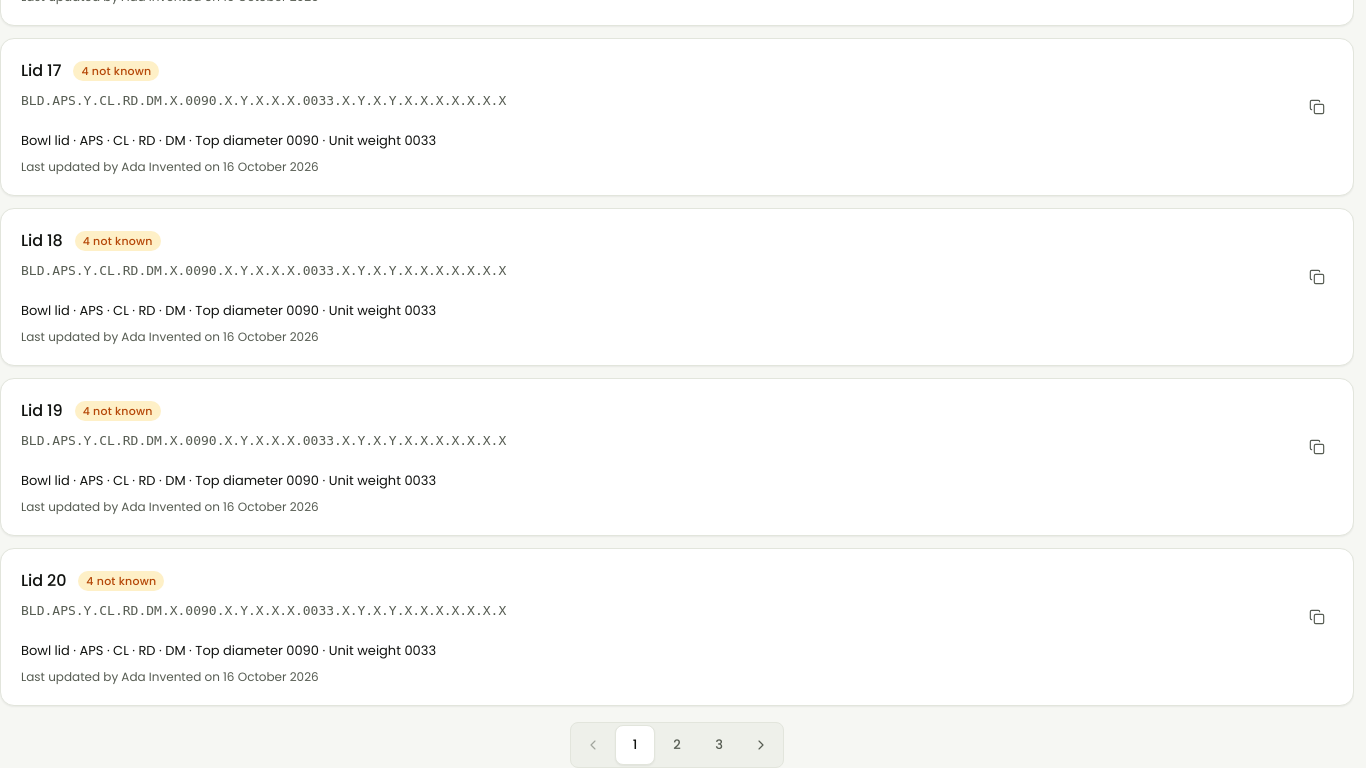
Test case: AtlasLibrary, the list › shows the last page on the first paint, and a jump loads that page in one request
(page scrolled)
Expected: the button named "Previous page" is disabled, left=573, top=725, right=613, bottom=765
Click the button named "Page 3". click: coordinates (719, 745)
box: left=699, top=725, right=739, bottom=765
(page scrolled)
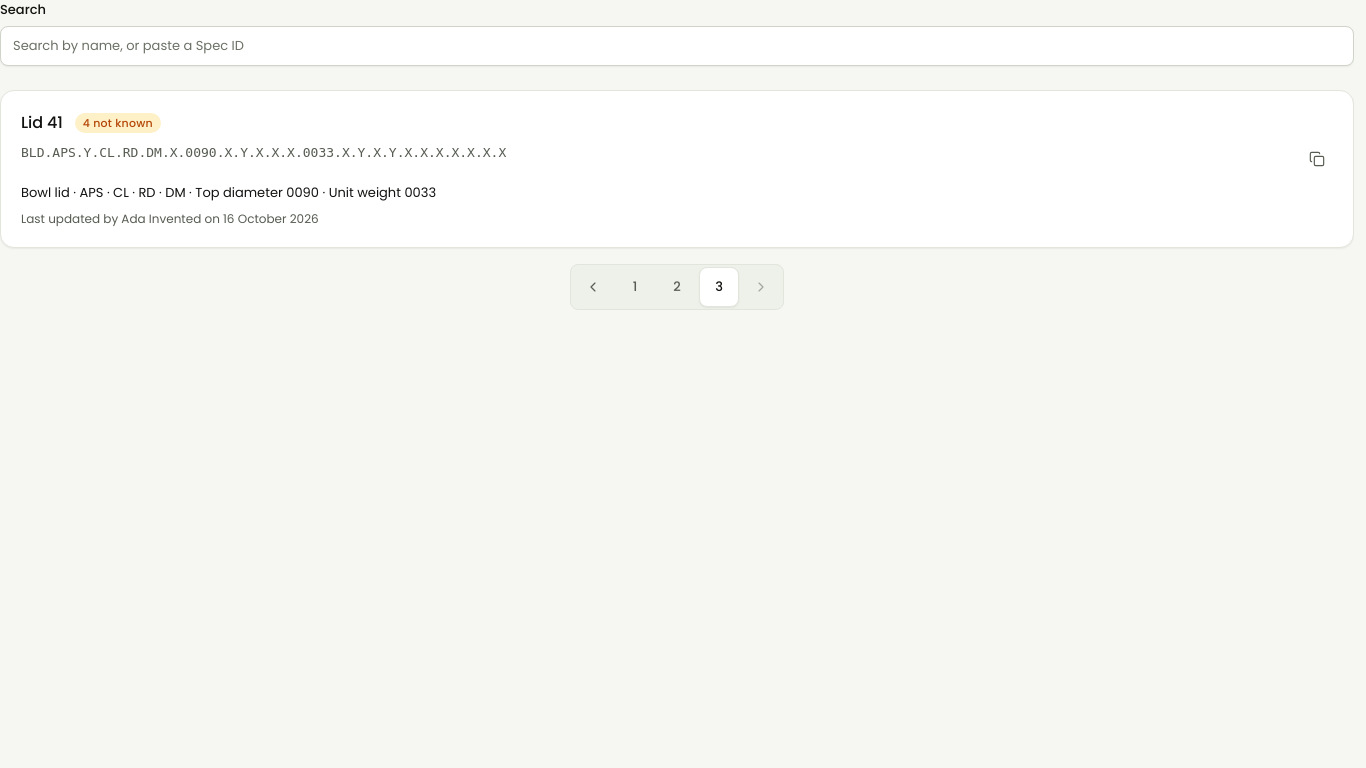
Expected: the button named "Next page" is disabled, left=741, top=267, right=781, bottom=307
Expected: the number of links is 1, left=1, top=91, right=1353, bottom=247
Expected: the text "Lid 41" is shown, left=21, top=111, right=63, bottom=135
Click the button named "Page 1". click: coordinates (635, 287)
box: left=615, top=267, right=655, bottom=307
(page scrolled)
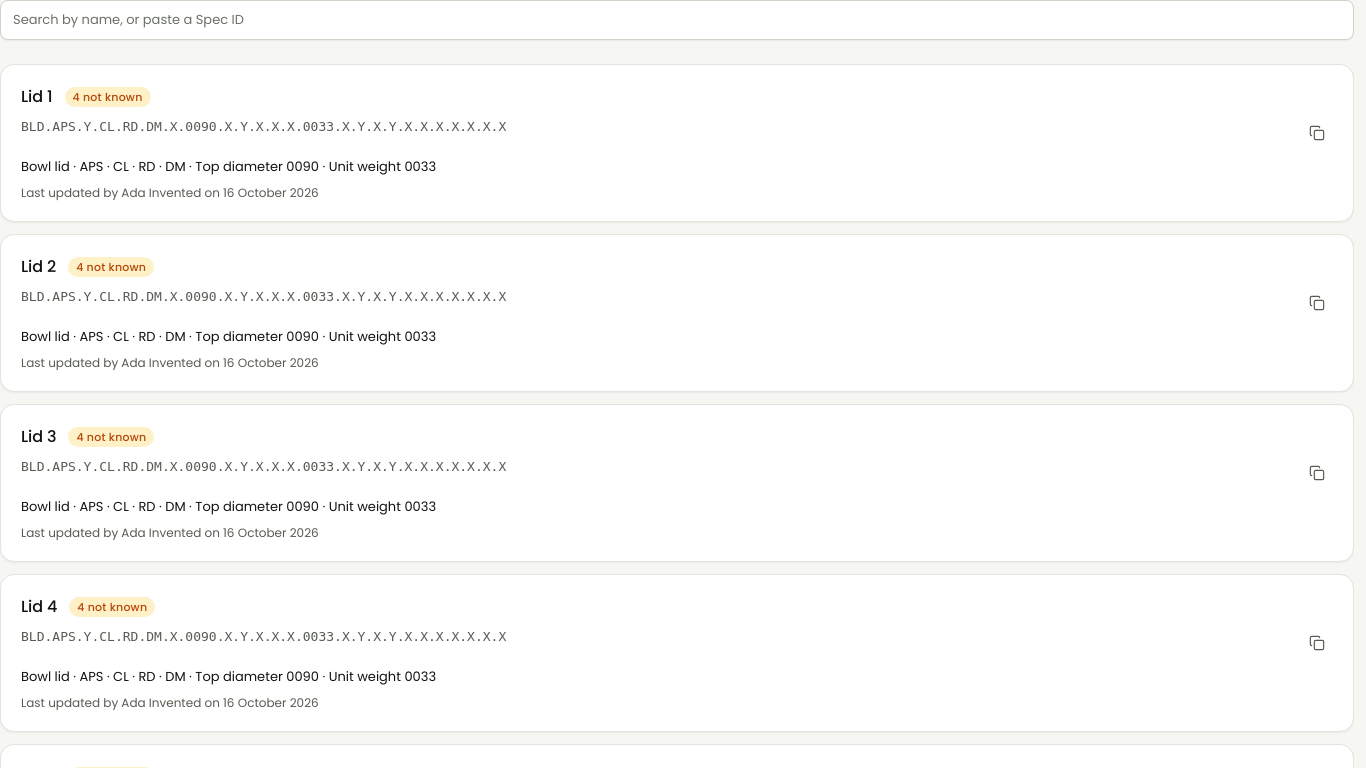
Expected: the number of links is 20
Expected: the text "Lid 1" is shown, left=21, top=85, right=52, bottom=109
